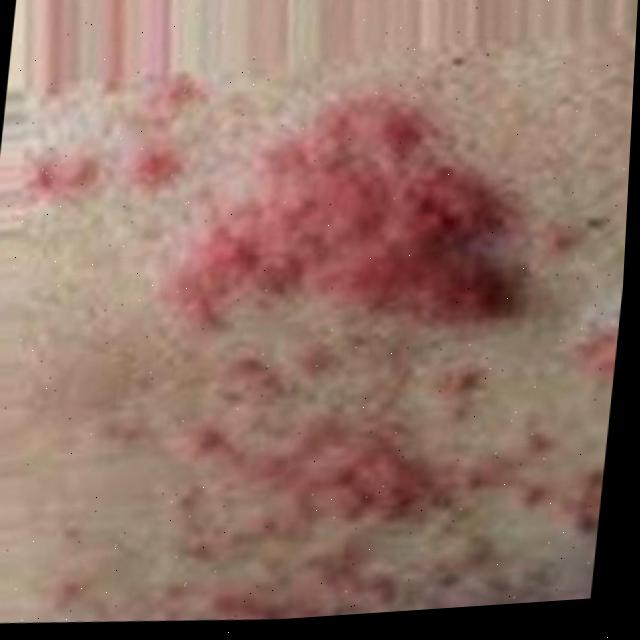Shingles: (179, 340, 616, 626), (181, 88, 542, 349), (46, 86, 185, 183)
